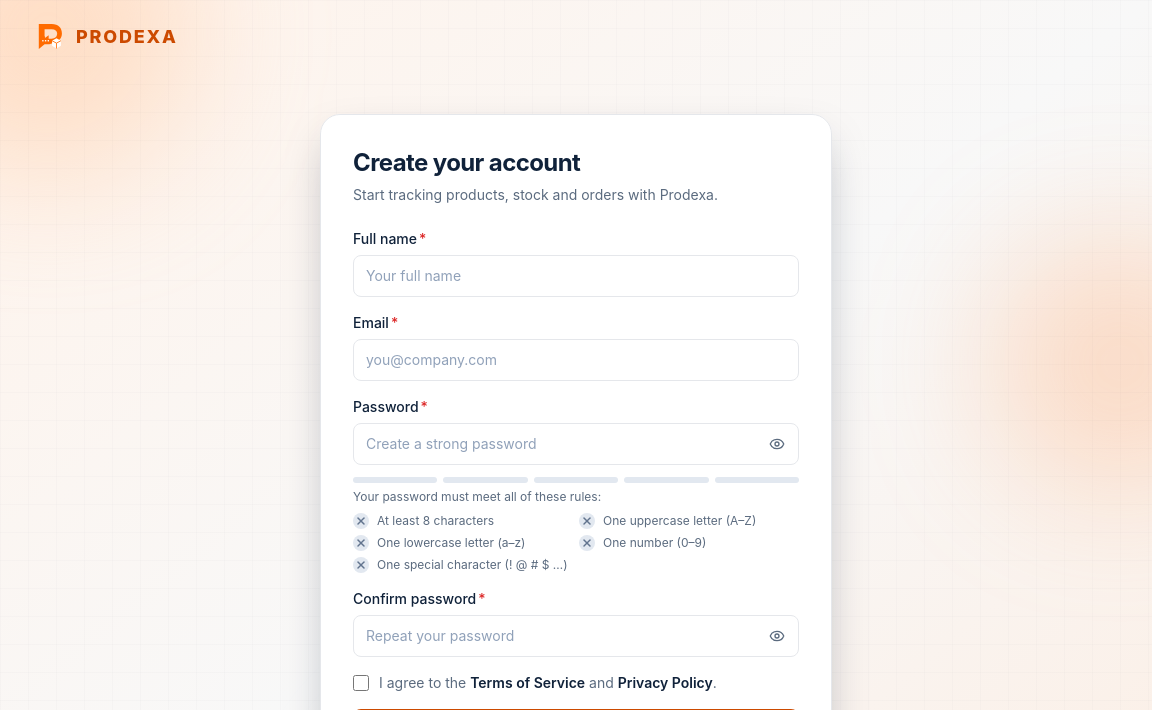
it: Register page › creates a CUSTOMER account and lands on the customer dashboard
In the field labelled "Full name*": (576, 276) [353, 255, 799, 297], type "Nour Ahmed"
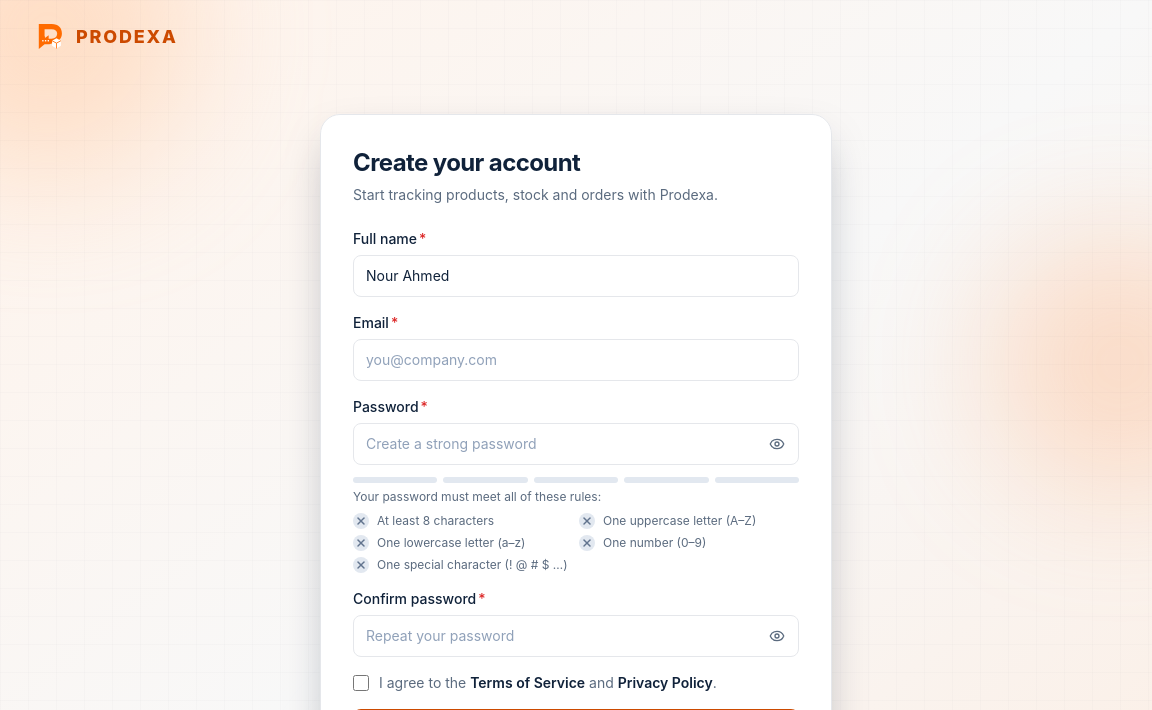
In the field labelled "Email*": (576, 360) [353, 339, 799, 381], type "nour@prodexa.com"
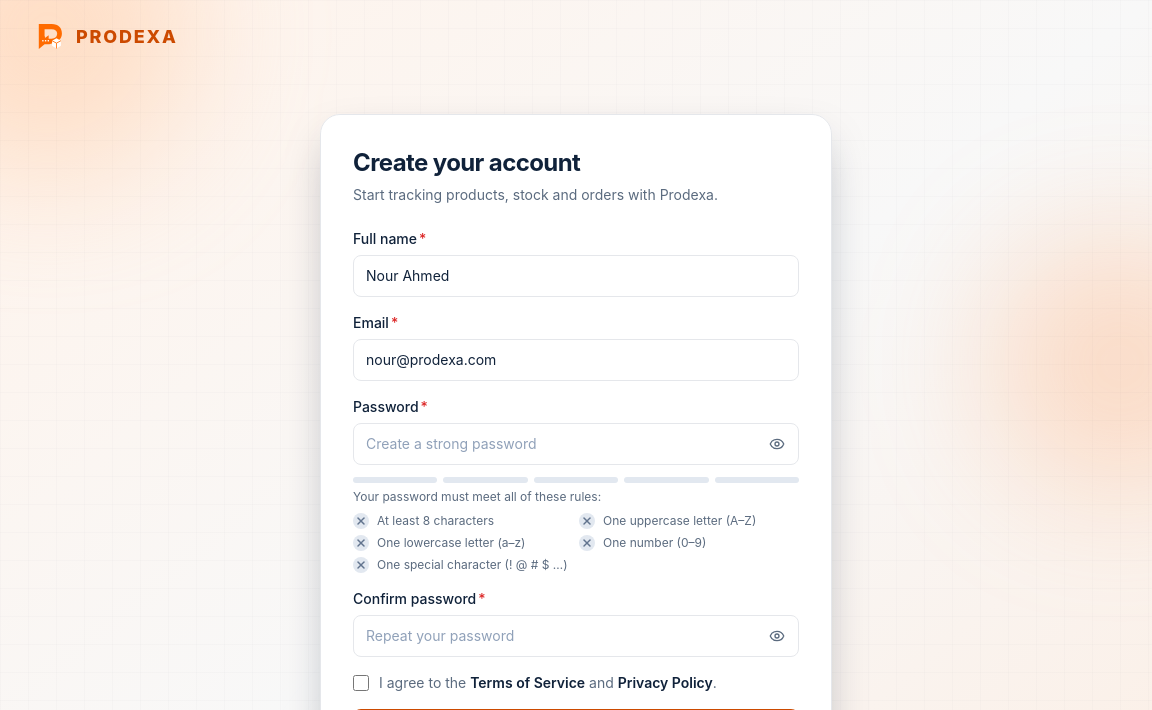
In the password field labelled "Password*": (576, 444) [353, 423, 799, 465], type "Strong#Pass1"
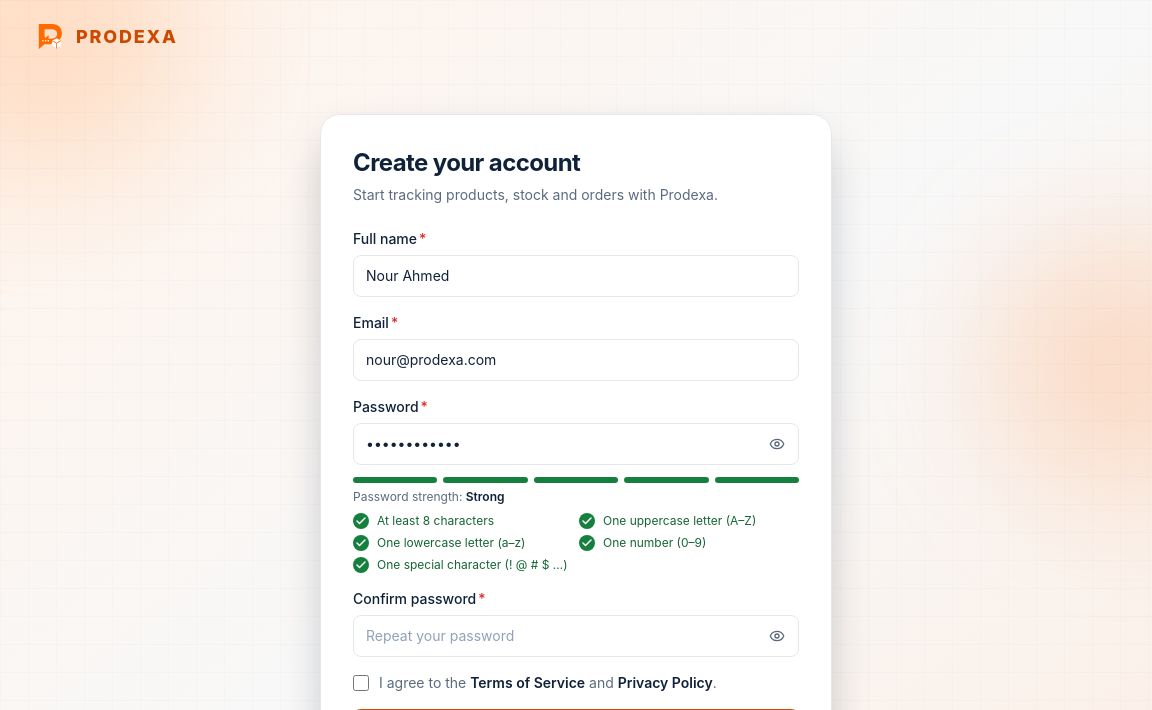
In the password field labelled "Confirm password*": (576, 636) [353, 615, 799, 657], type "Strong#Pass1"
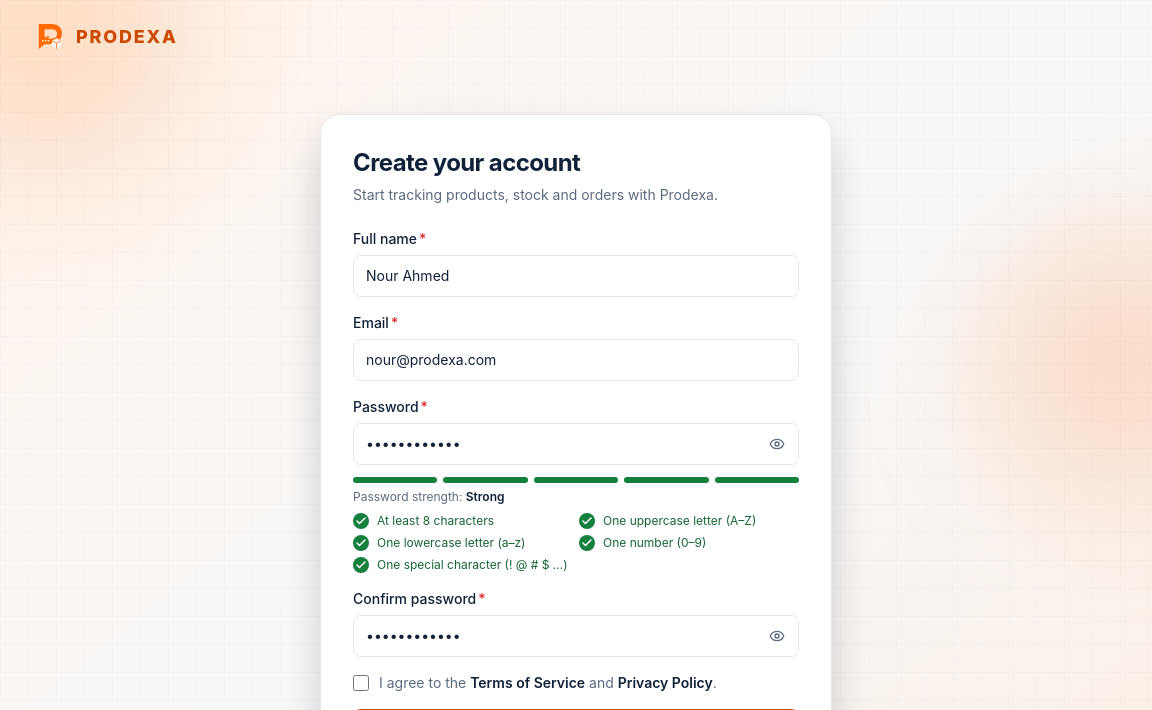
Click the checkbox: (361, 683) [353, 675, 369, 691]
(page scrolled)
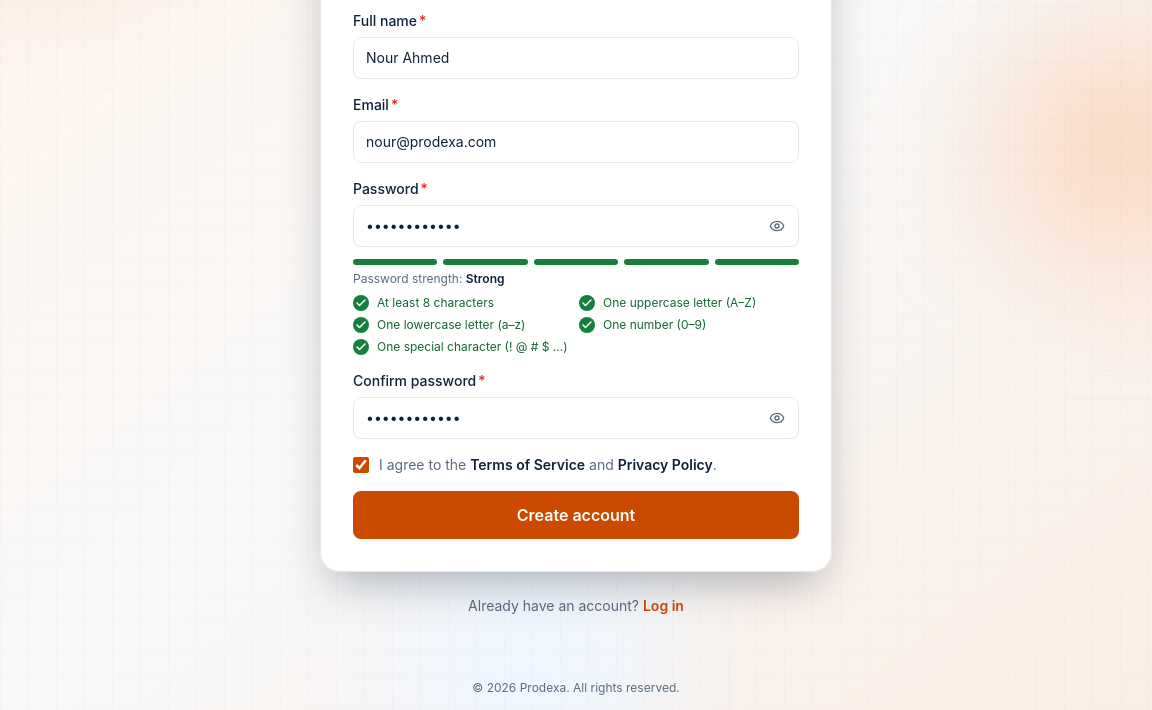
Click the button "Create account": (576, 515) [353, 491, 799, 539]
(page scrolled)
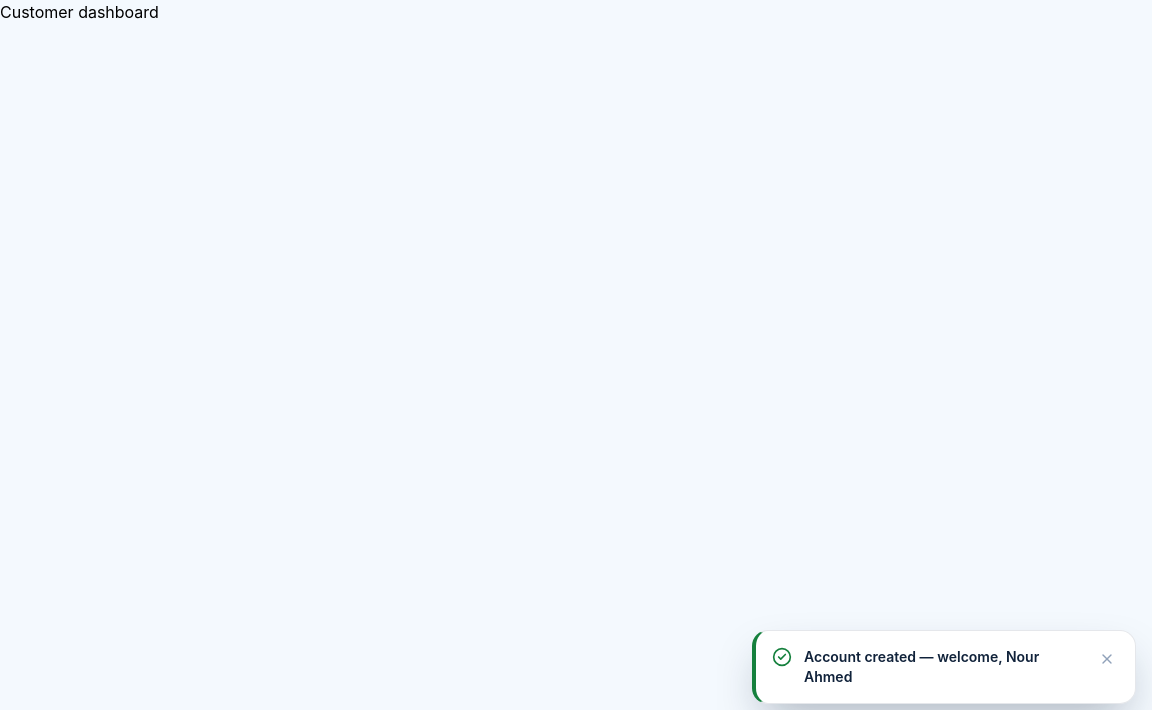
Expected: the text "Customer dashboard" is shown, [0, 2, 159, 22]
